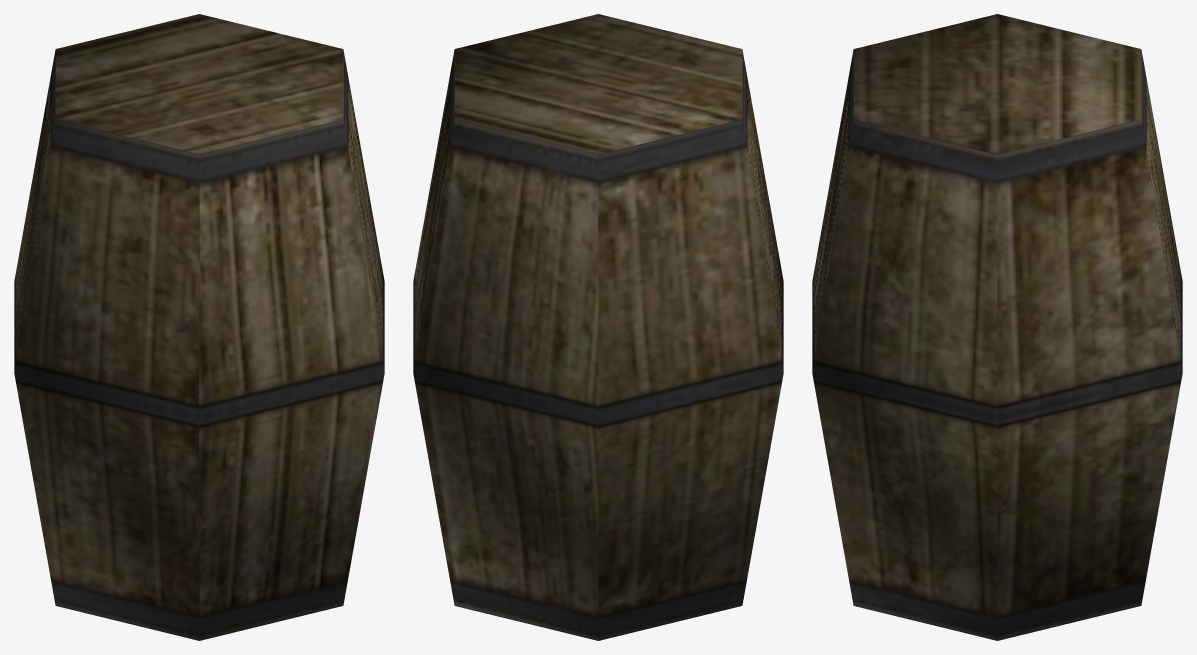
File: cj_ferry_bottle01.glb
3 views of the same model, side by side, from view 1: azimuth 30°, elevation 25°; view 2: azimuth 150°, elevation 25°; view 3: azimuth 270°, elevation 25° (orthographic).
Parts seen in each view (by area): view 1: CJ_ferry_bottle01; view 2: CJ_ferry_bottle01; view 3: CJ_ferry_bottle01.
Part boxes in pixels (x1,y1,x2,y2): CJ_ferry_bottle01: (14,14,384,640); CJ_ferry_bottle01: (413,14,783,640); CJ_ferry_bottle01: (812,14,1182,640).
Bounding box in the file's own units: 1.91 × 2.4 × 1.65.
1 material, 1 textured.
